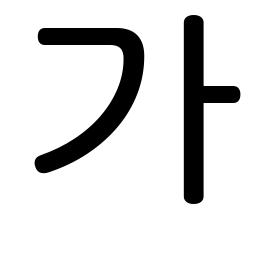Gaji: (170, 74, 222, 122)
